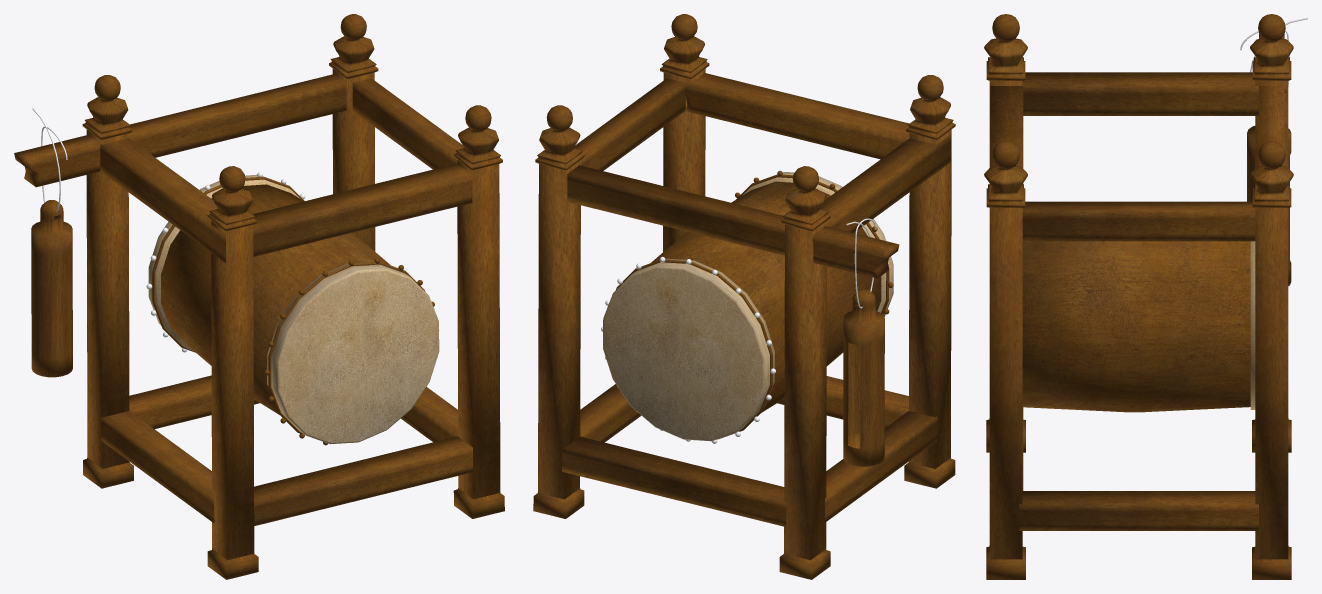
3 renders of one model, left to right at view 1: azimuth 30°, elevation 25°; view 2: azimuth 150°, elevation 25°; view 3: azimuth 270°, elevation 25°, orthographic. The views are drawn at different scales.
Visible parts, largest first — view 1: Cylinder.018, Cylinder.006, Cylinder.004, Cylinder.002, Cylinder.017, Cylinder.003, Cylinder.009, Cylinder.013, Cylinder, Cylinder.008, Cylinder.005, Cylinder.012 (+6 smaller); view 2: Cylinder.001, Cylinder.002, Cylinder.005, Cylinder.006, Cylinder.003, Cylinder.017, Cylinder.009, Cylinder.010, Cylinder, Cylinder.004, Cylinder.008, Cylinder.007 (+5 smaller); view 3: Cylinder.017, Cylinder.004, Cylinder.005, Cylinder.008, Cylinder.007, Cylinder.011, Cylinder.002, Cylinder.006, Cylinder.009, Cylinder.003, Cylinder.001, Cylinder.
Part boxes in pixels (box(x1,y1,x2,y2)): Cylinder.018: box(267, 261, 439, 444); Cylinder.006: box(207, 166, 258, 579); Cylinder.004: box(453, 105, 504, 518); Cylinder.002: box(82, 75, 133, 488); Cylinder.017: box(161, 184, 390, 414); Cylinder.003: box(14, 74, 346, 187); Cylinder.009: box(252, 163, 472, 256); Cylinder.013: box(254, 436, 473, 525); Cylinder: box(31, 200, 72, 377); Cylinder.008: box(86, 134, 225, 263); Cylinder.005: box(329, 14, 378, 251); Cylinder.012: box(101, 411, 214, 523); Cylinder.001: box(603, 258, 774, 441); Cylinder.002: box(779, 166, 830, 579); Cylinder.005: box(533, 105, 584, 518); Cylinder.006: box(904, 75, 955, 488); Cylinder.003: box(567, 165, 899, 278); Cylinder.017: box(651, 181, 881, 412); Cylinder.009: box(685, 73, 909, 159); Cylinder.010: box(562, 436, 786, 526); Cylinder: box(843, 289, 884, 466); Cylinder.004: box(660, 14, 709, 251); Cylinder.008: box(812, 134, 950, 242); Cylinder.007: box(574, 78, 685, 170); Cylinder.017: box(1022, 241, 1250, 412); Cylinder.004: box(984, 141, 1027, 579); Cylinder.005: box(1250, 141, 1293, 579); Cylinder.008: box(1022, 72, 1287, 115); Cylinder.007: box(1022, 201, 1255, 241); Cylinder.011: box(1019, 491, 1258, 530); Cylinder.002: box(1250, 14, 1293, 452); Cylinder.006: box(984, 14, 1027, 452); Cylinder.009: box(990, 86, 1023, 183); Cylinder.003: box(1259, 34, 1284, 165); Cylinder.001: box(1250, 241, 1255, 409); Cylinder: box(1247, 126, 1291, 285).
Bounding box in the file's own units: 5.43 × 5.95 × 4.06.
Materials: 4 (2 with a texture image).
